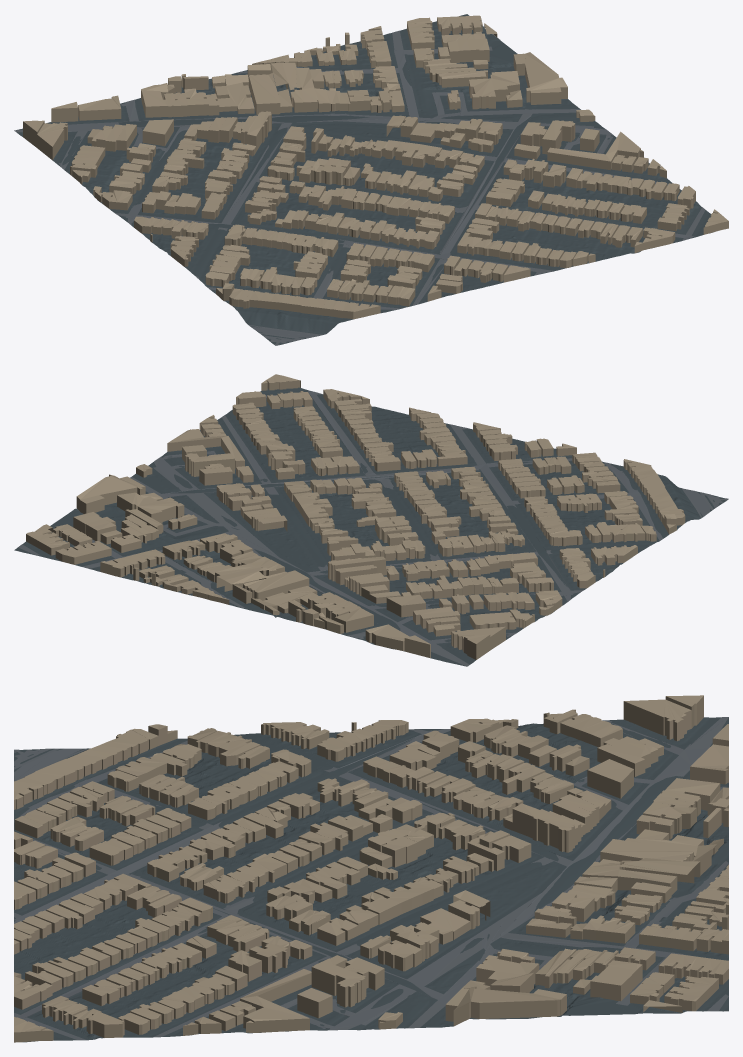
Rendered from epsg26910-1428-10869.lod0.glb.
3 renders of one model, top to bottom at view 1: azimuth 30°, elevation 25°; view 2: azimuth 150°, elevation 25°; view 3: azimuth 270°, elevation 25°, orthographic. The views are drawn at different scales.
Visible parts, largest first — view 1: epsg26910-1428-10869-lod0; view 2: epsg26910-1428-10869-lod0; view 3: epsg26910-1428-10869-lod0.
Boxes of the visible parts, x1=… form: epsg26910-1428-10869-lod0: x1=14, y1=14, x2=728, y2=345; epsg26910-1428-10869-lod0: x1=14, y1=374, x2=728, y2=666; epsg26910-1428-10869-lod0: x1=14, y1=695, x2=728, y2=1042.
Size of the model in its own units: 384 by 33.62 by 384.
